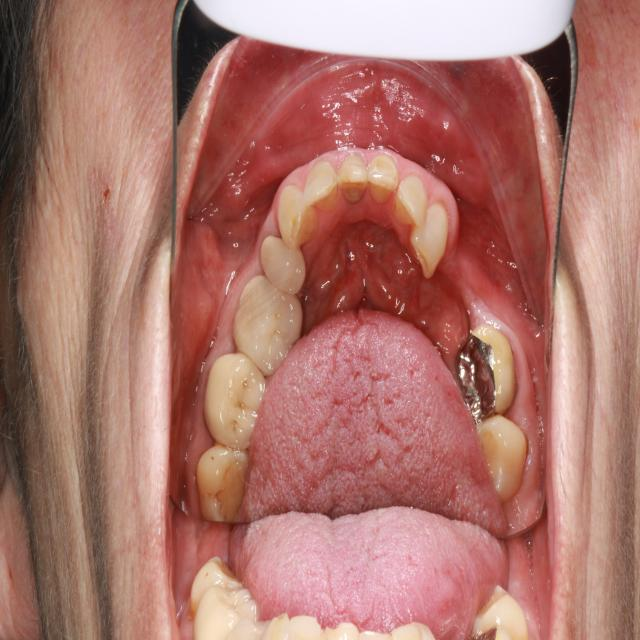tooth: (230, 264, 305, 382), (449, 310, 522, 428), (202, 345, 270, 454), (195, 435, 258, 526), (472, 411, 529, 504), (408, 195, 450, 282), (259, 229, 311, 297), (274, 179, 319, 253), (392, 170, 429, 231), (366, 146, 400, 212), (301, 159, 339, 216), (336, 152, 370, 206)
